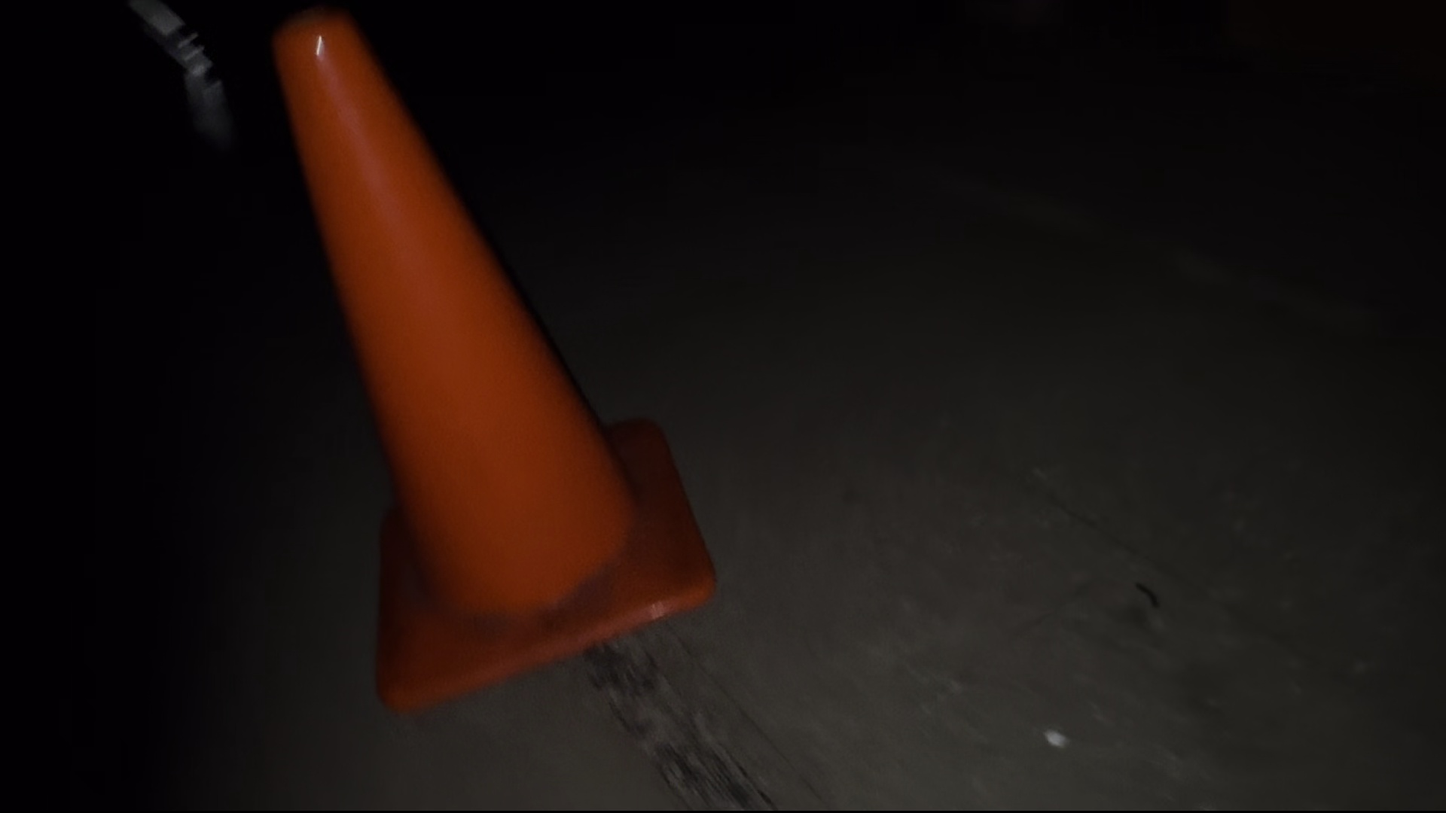traffic_cone: (269, 5, 719, 714)
